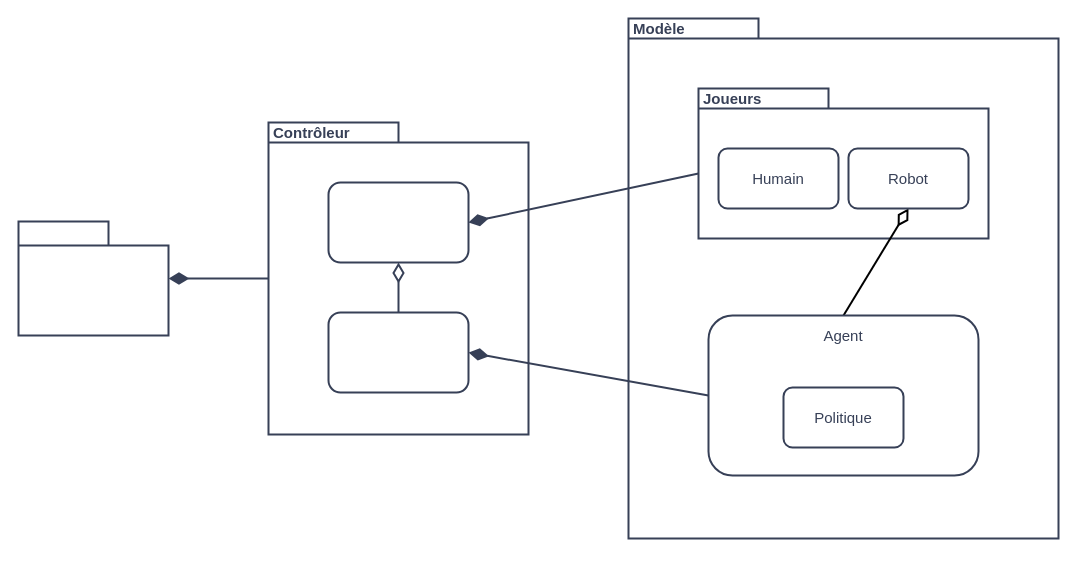
The diagram is 1076 pixels wide and 564 high, and some of its shapes have lost their labels. Each missing label, with the centre of its shape:
Contrôleur de l'IA: pixel 398 352
Contrôleur du Jeu: pixel 398 222
Vue: pixel 93 278
